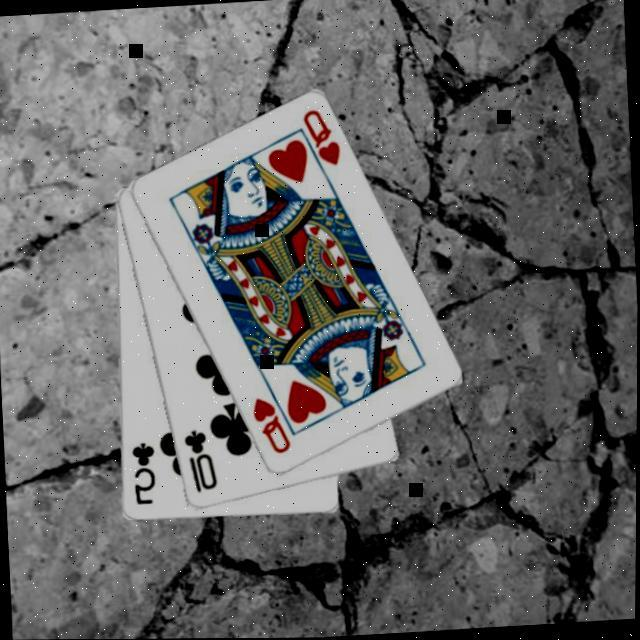10C: (181, 428, 223, 499)
5C: (129, 441, 161, 510)
QH: (294, 107, 345, 185), (250, 395, 296, 461)
